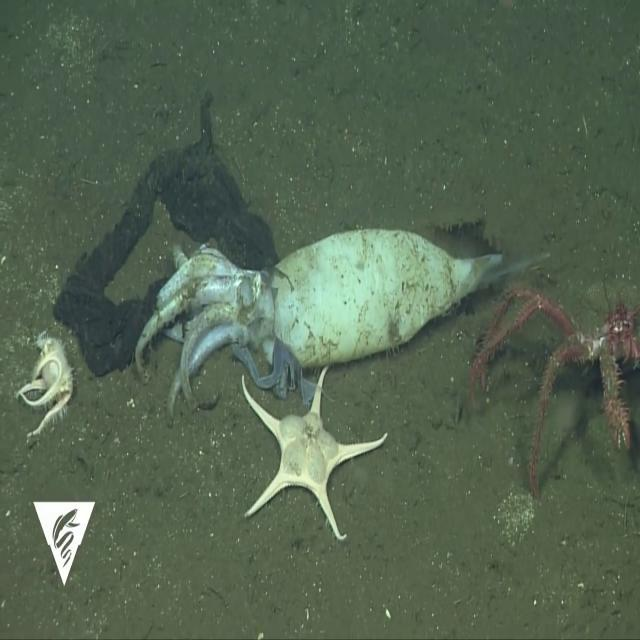SQUID: (113, 213, 520, 395)
